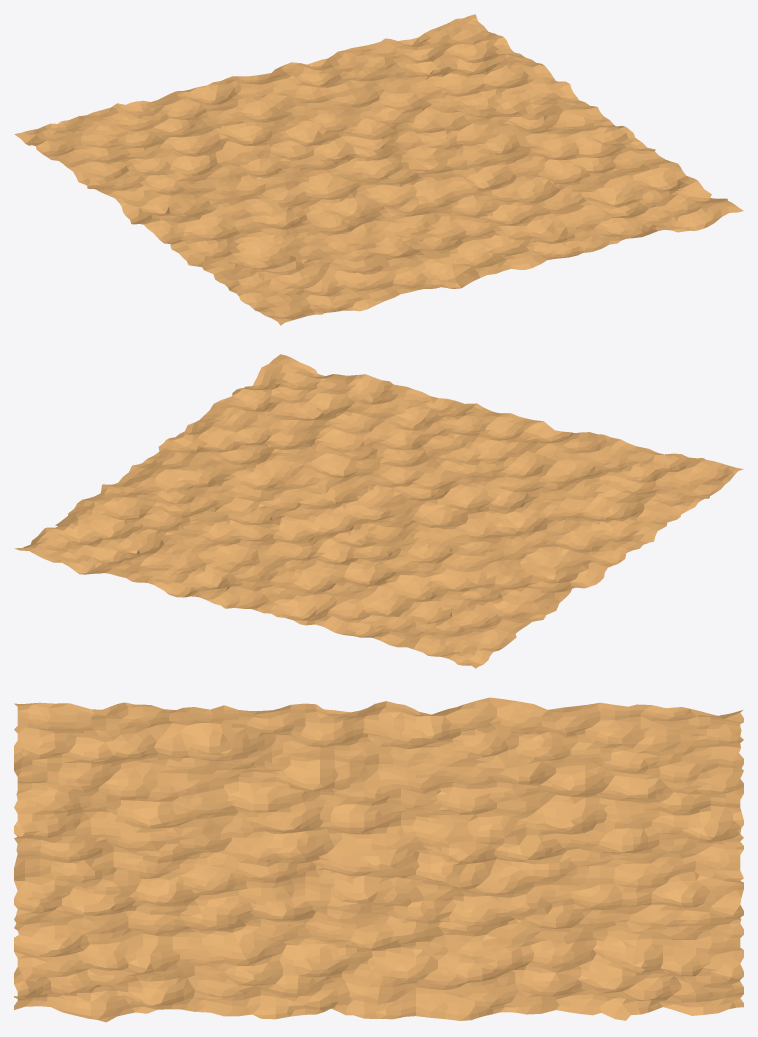
File: Desert_Plane.fbx
3 views of the same model, one above another, from view 1: azimuth 30°, elevation 25°; view 2: azimuth 150°, elevation 25°; view 3: azimuth 270°, elevation 25° (orthographic). The views are drawn at different scales.
Visible parts, largest first — view 1: Cube; view 2: Cube; view 3: Cube.
Part boxes in pixels (x1,y1,x2,y2): Cube: [14, 14, 743, 325]; Cube: [14, 354, 743, 668]; Cube: [14, 697, 743, 1022].
Bounding box in the file's own units: 50661 × 1393 × 50000.
